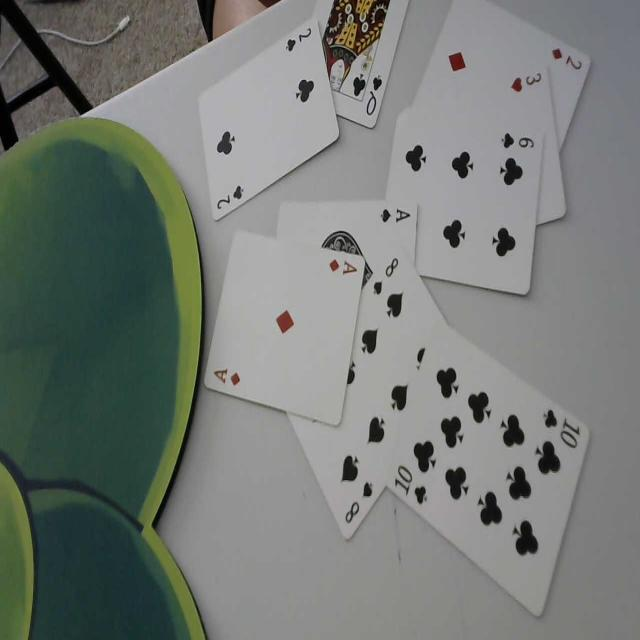10C: (392, 459, 432, 513), (541, 403, 583, 454)
2C: (214, 180, 247, 214), (284, 25, 313, 55)
2D: (550, 40, 584, 75)
3H: (509, 68, 542, 100)
6C: (500, 125, 539, 154)
8S: (340, 478, 374, 530), (370, 252, 400, 300)
AD: (211, 358, 243, 389), (327, 252, 358, 279)
AS: (378, 206, 412, 230)
QC: (364, 71, 386, 120)
